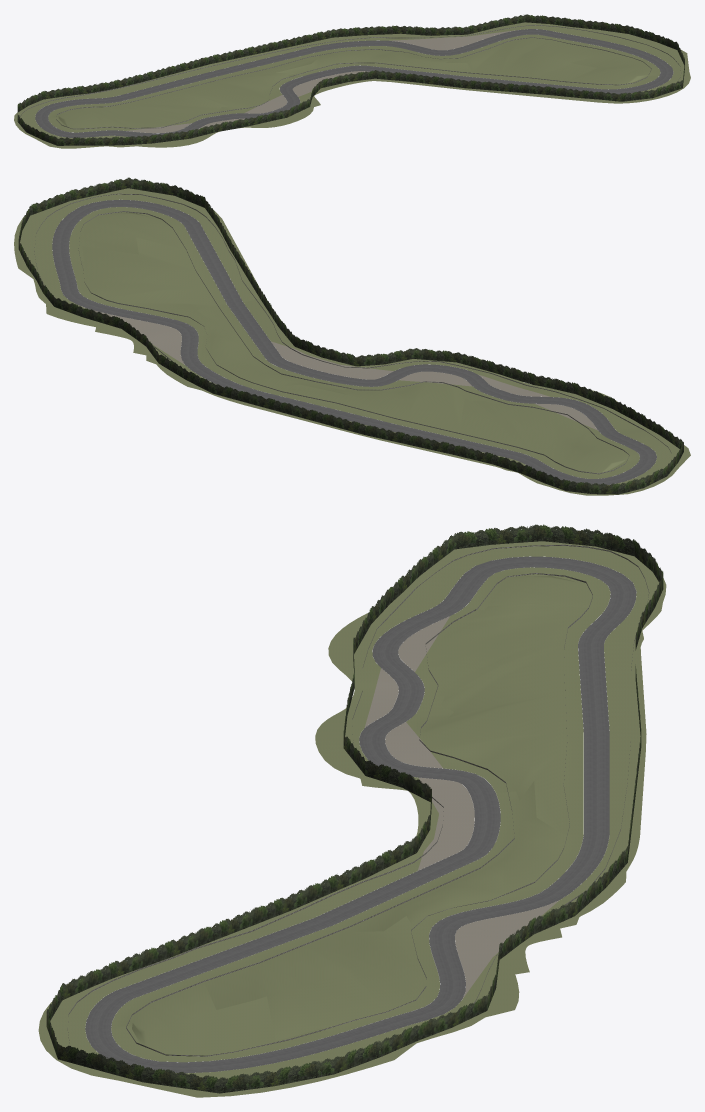
The model's file is RGKDemoTrack.FBX.
3 renders of one model, top to bottom at view 1: azimuth 30°, elevation 25°; view 2: azimuth 150°, elevation 25°; view 3: azimuth 270°, elevation 25°, orthographic. The views are drawn at different scales.
Visible parts, largest first — view 1: RGKDemoTrack_TreeLine, RGKDemoTrack_Terrain_Part5, RGKDemoTrack_Terrain_Part3, RGKDemoTrack_Terrain_Part2, RGKDemoTrack_Terrain_Part6, RGKDemoTrack_Terrain_Part4, RGKDemoTrack_Terrain_Part1, RGKDemoTrack_Road_Part3, RGKDemoTrack_Road_Part2, RGKDemoTrack_Gravel (×4), RGKDemoTrack_Road_Part4, RGKDemoTrack_ArmcoInner (+3 smaller); view 2: RGKDemoTrack_TreeLine, RGKDemoTrack_Terrain_Part5, RGKDemoTrack_Terrain_Part6, RGKDemoTrack_Terrain_Part3, RGKDemoTrack_Terrain_Part2, RGKDemoTrack_Terrain_Part4, RGKDemoTrack_Terrain_Part1, RGKDemoTrack_Gravel (×4), RGKDemoTrack_Road_Part4, RGKDemoTrack_Road_Part3, RGKDemoTrack_Road_Part2, RGKDemoTrack_Road_Part1 (+3 smaller); view 3: RGKDemoTrack_Terrain_Part5, RGKDemoTrack_TreeLine, RGKDemoTrack_Terrain_Part3, RGKDemoTrack_Terrain_Part2, RGKDemoTrack_Terrain_Part4, RGKDemoTrack_Terrain_Part6, RGKDemoTrack_Terrain_Part1, RGKDemoTrack_Gravel (×5), RGKDemoTrack_Road_Part4, RGKDemoTrack_Road_Part3, RGKDemoTrack_Road_Part2, RGKDemoTrack_Road_Part1 (+3 smaller).
Boxes of the visible parts, x1,y1,x2,y2 form: RGKDemoTrack_TreeLine: (17,14,684,145); RGKDemoTrack_Terrain_Part5: (445,22,608,98); RGKDemoTrack_Terrain_Part3: (158,43,320,128); RGKDemoTrack_Terrain_Part2: (69,78,227,147); RGKDemoTrack_Terrain_Part6: (554,31,690,103); RGKDemoTrack_Terrain_Part4: (276,33,472,97); RGKDemoTrack_Terrain_Part1: (14,96,136,148); RGKDemoTrack_Road_Part3: (413,29,673,87); RGKDemoTrack_Road_Part2: (121,40,419,99); RGKDemoTrack_Gravel (×4): (127,30,517,133); RGKDemoTrack_Road_Part4: (312,65,653,94); RGKDemoTrack_ArmcoInner: (56,37,651,129); RGKDemoTrack_TreeLine: (18,177,683,494); RGKDemoTrack_Terrain_Part5: (16,237,259,336); RGKDemoTrack_Terrain_Part6: (14,188,236,262); RGKDemoTrack_Terrain_Part3: (244,359,525,451); RGKDemoTrack_Terrain_Part2: (432,383,626,483); RGKDemoTrack_Terrain_Part4: (118,299,385,404); RGKDemoTrack_Terrain_Part1: (537,417,690,495); RGKDemoTrack_Gravel (×4): (79,305,597,430); RGKDemoTrack_Road_Part4: (141,202,330,379); RGKDemoTrack_Road_Part3: (52,199,198,345); RGKDemoTrack_Road_Part2: (180,345,511,456); RGKDemoTrack_Road_Part1: (504,403,656,484); RGKDemoTrack_Terrain_Part5: (161,911,529,1067); RGKDemoTrack_TreeLine: (46,524,663,1093); RGKDemoTrack_Terrain_Part3: (315,693,646,836); RGKDemoTrack_Terrain_Part2: (328,603,660,717); RGKDemoTrack_Terrain_Part4: (290,781,639,956); RGKDemoTrack_Terrain_Part6: (38,961,370,1097); RGKDemoTrack_Terrain_Part1: (384,541,666,615); RGKDemoTrack_Gravel (×5): (364,616,558,998); RGKDemoTrack_Road_Part4: (85,811,500,1037); RGKDemoTrack_Road_Part3: (87,906,500,1073); RGKDemoTrack_Road_Part2: (490,650,609,916); RGKDemoTrack_Road_Part1: (375,556,636,650).
Bounding box in the file's own units: 675 × 14.26 × 318.
6 materials, 6 textured.
